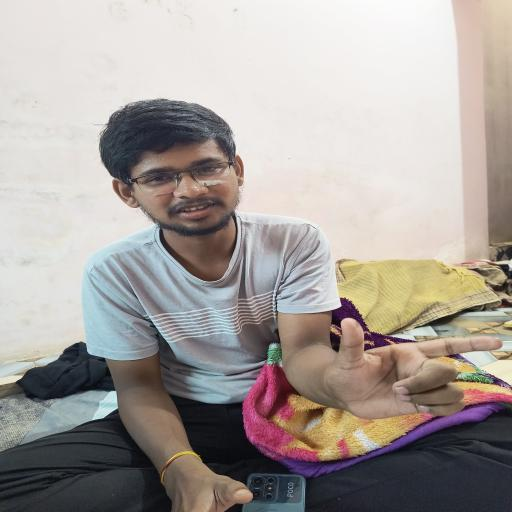Sorry: (320, 300, 512, 433)
